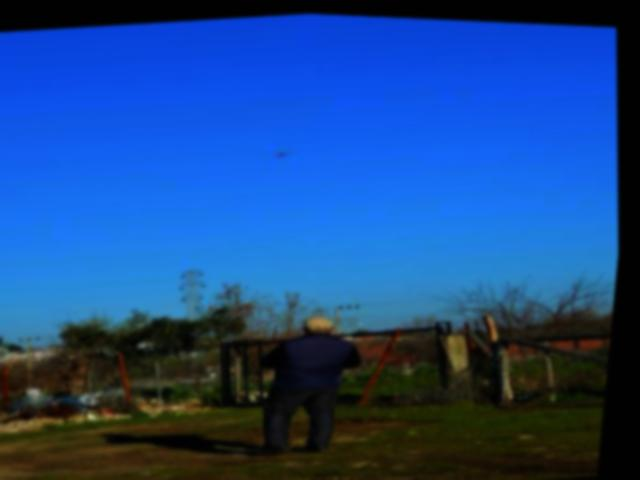iha: (262, 146, 303, 157)
